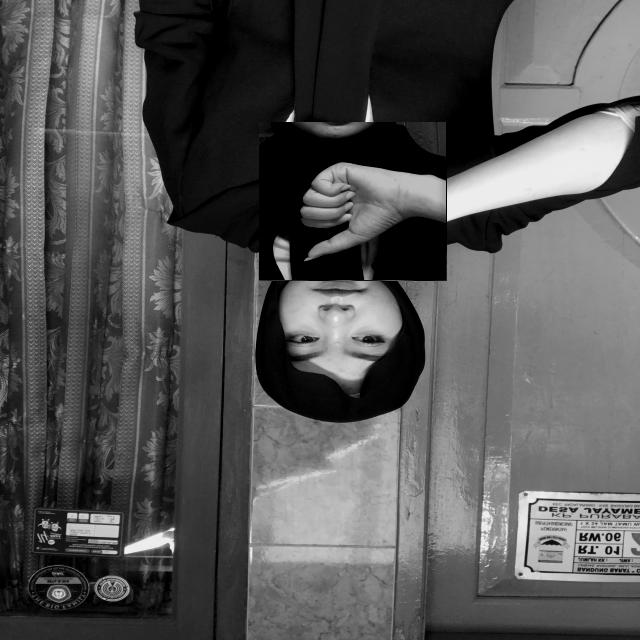sedih: (259, 122, 447, 281)
